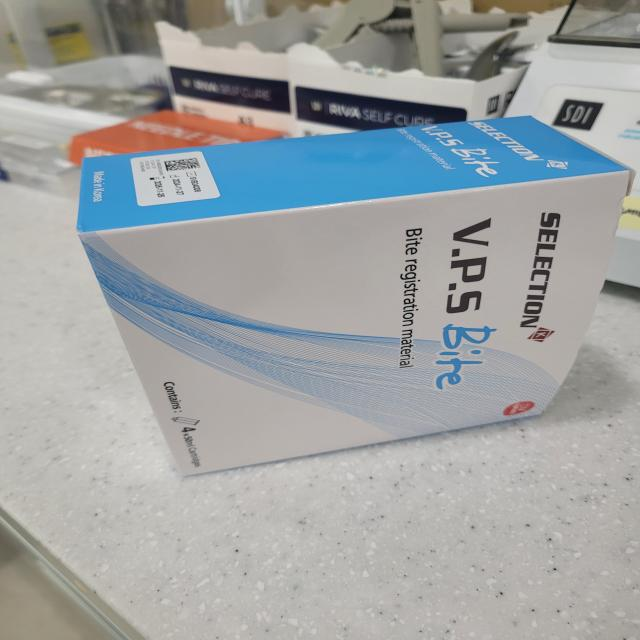impression: (52, 107, 640, 481)
